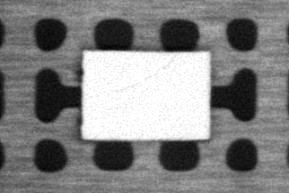DIE_CRACK: (115, 56, 179, 90)
